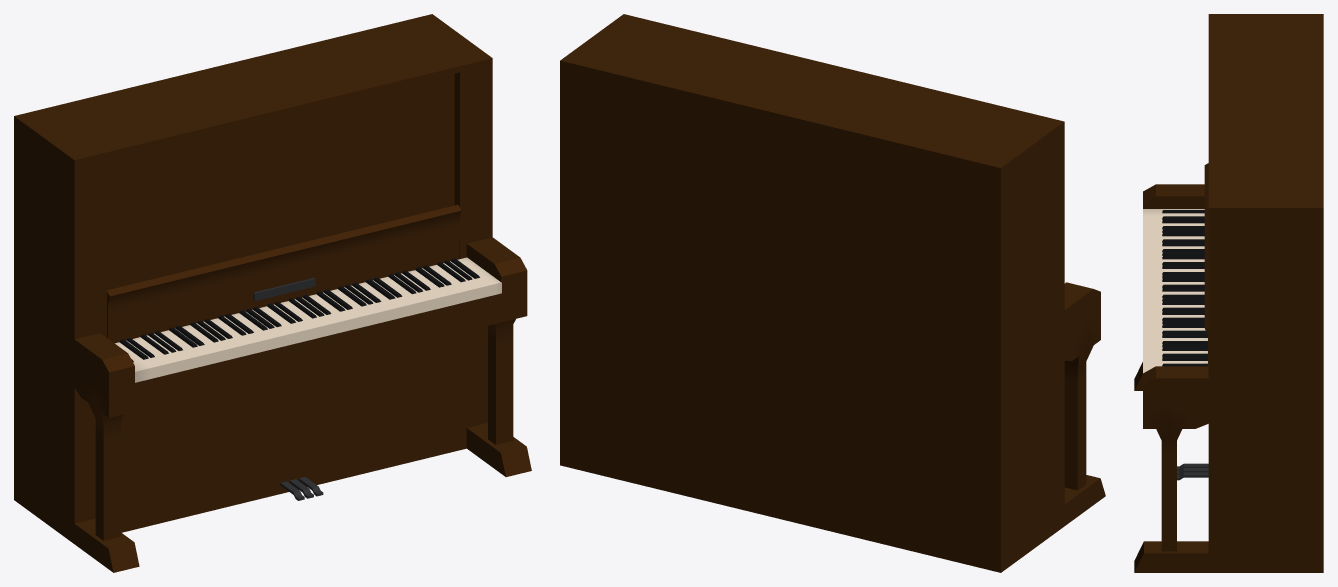
File: Piyano (1).fbx
3 renders of one model, left to right at view 1: azimuth 30°, elevation 25°; view 2: azimuth 150°, elevation 25°; view 3: azimuth 270°, elevation 25°, orthographic. The views are drawn at different scales.
Visible parts, largest first — view 1: Piyano; view 2: Piyano; view 3: Piyano.
Part boxes in pixels (left/top/right/bottom): Piyano: left=14, top=14, right=531, bottom=572; Piyano: left=560, top=14, right=1105, bottom=572; Piyano: left=1134, top=14, right=1323, bottom=572.
Size of the model in its own units: 248 by 218 by 102.
